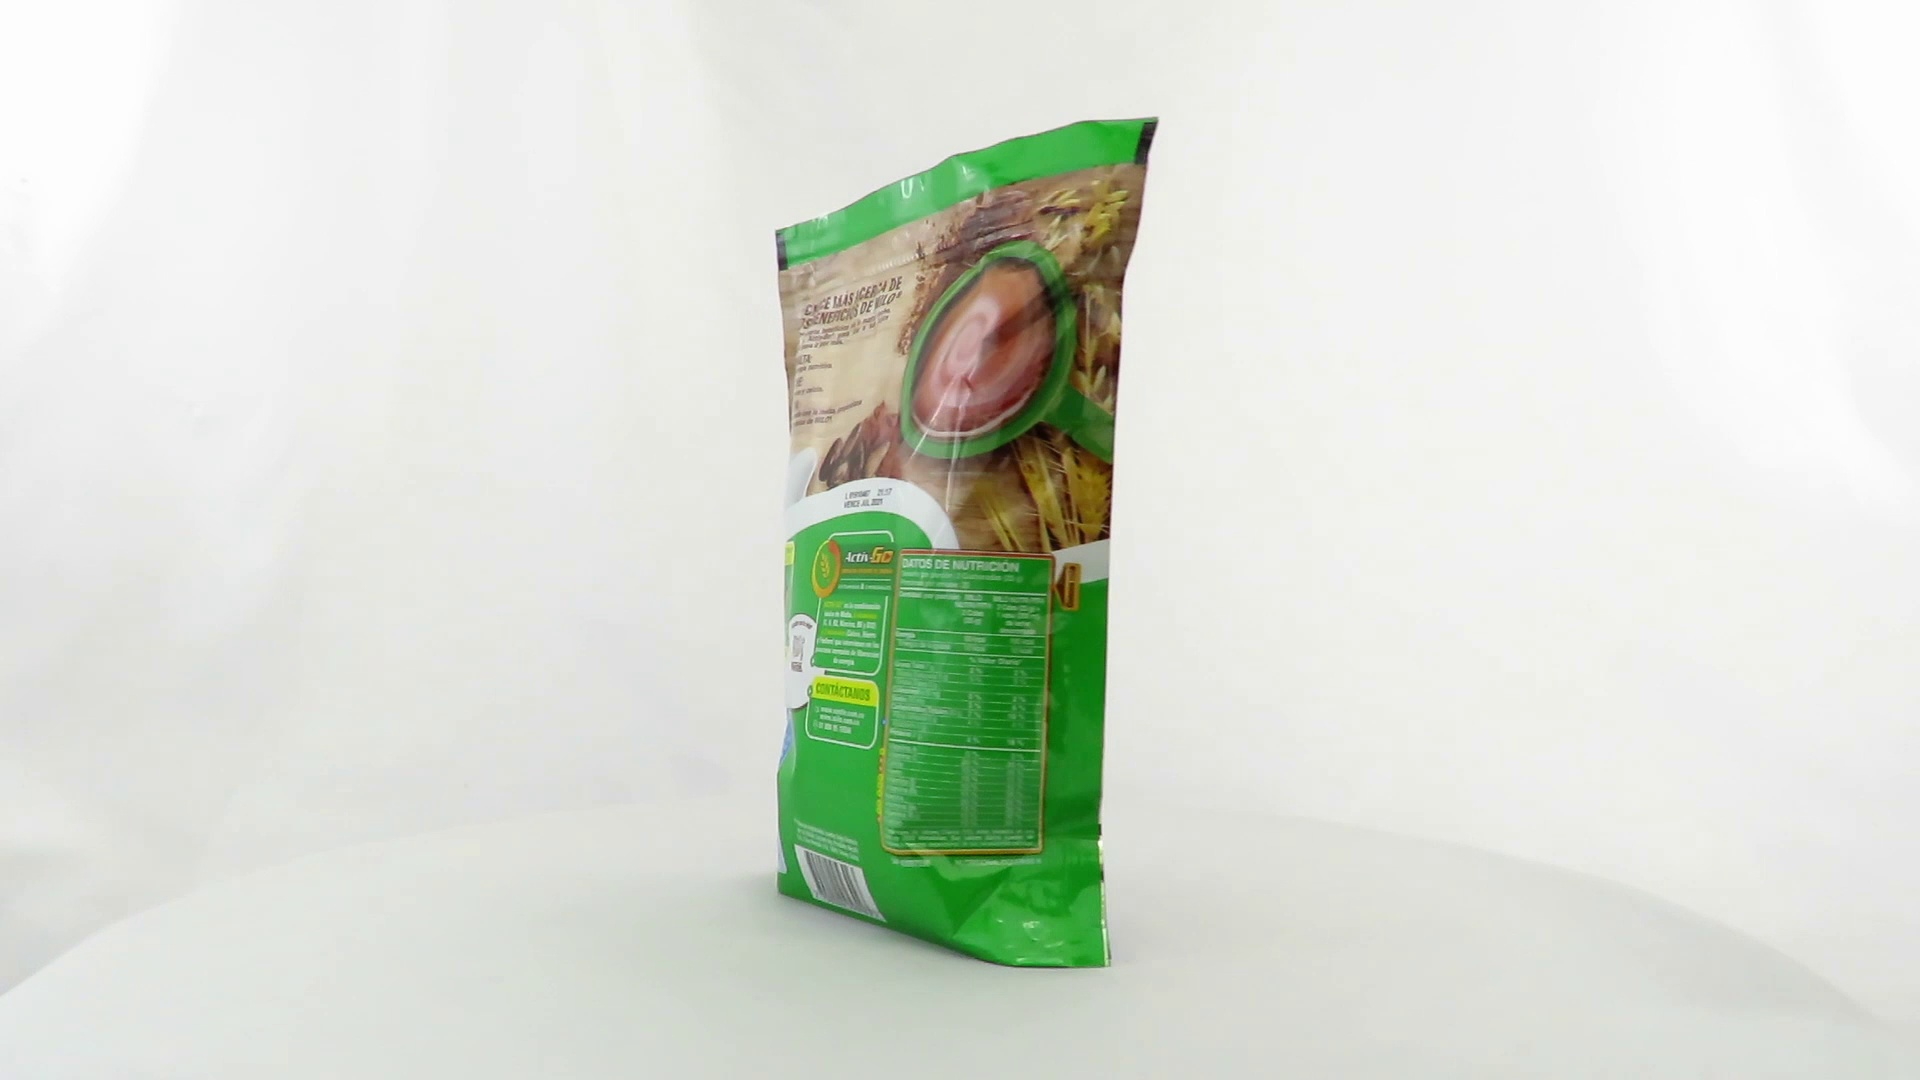COL0170205DYP50000: (770, 111, 1164, 975)
